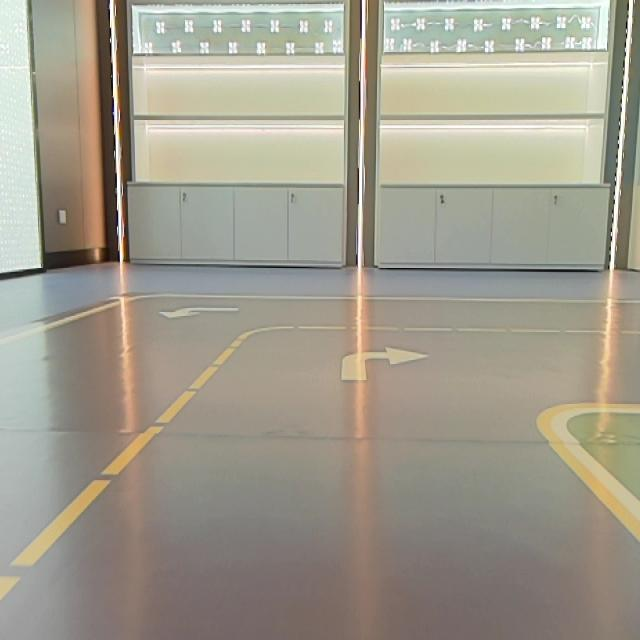left_lane: (0, 334, 237, 606)
right_lane: (543, 431, 640, 544), (1, 292, 130, 350)
